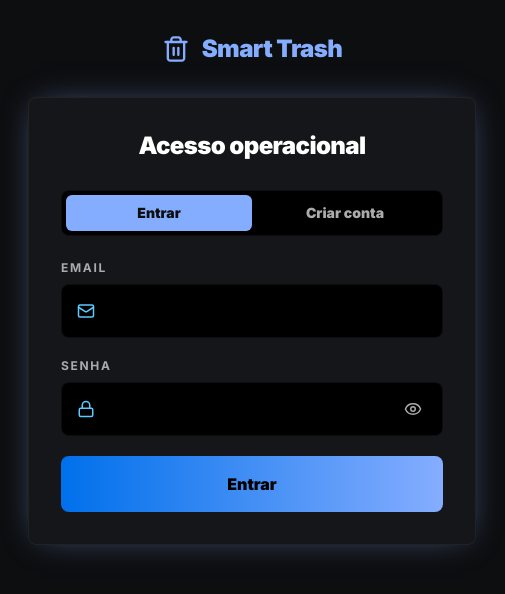
Test: LoginPage › submits credentials to Supabase Auth
Type "operator@smarttrash.local" into the field labelled "Email" at x=252, y=311, box [61,284,443,338]
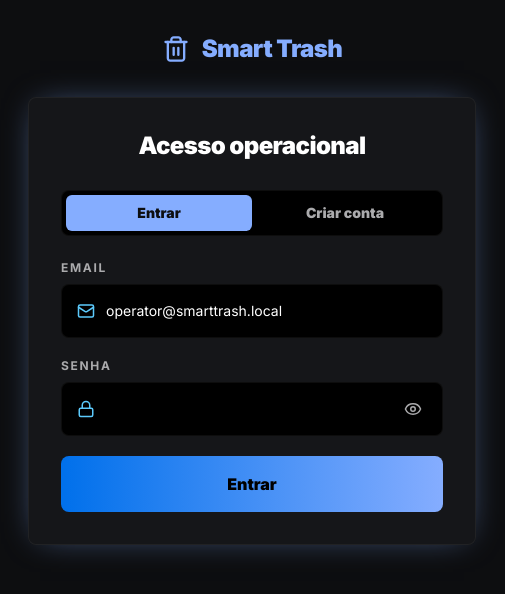
Type "demo123" into the password field labelled "Senha" at x=252, y=409, box [61,382,443,436]
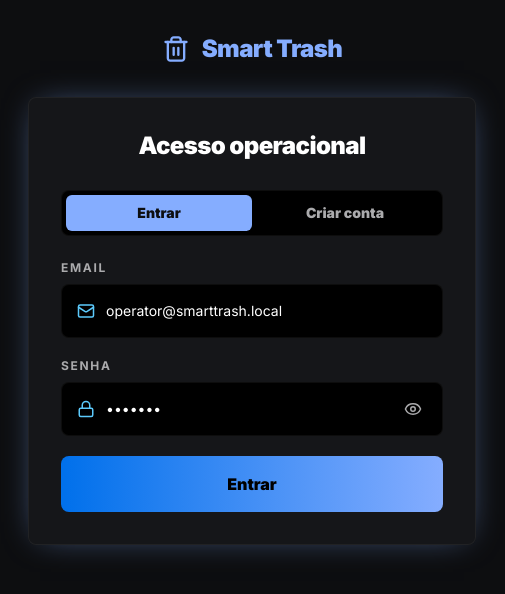
Click the button "Entrar" below "Senha" at x=252, y=484, box [61,456,443,512]
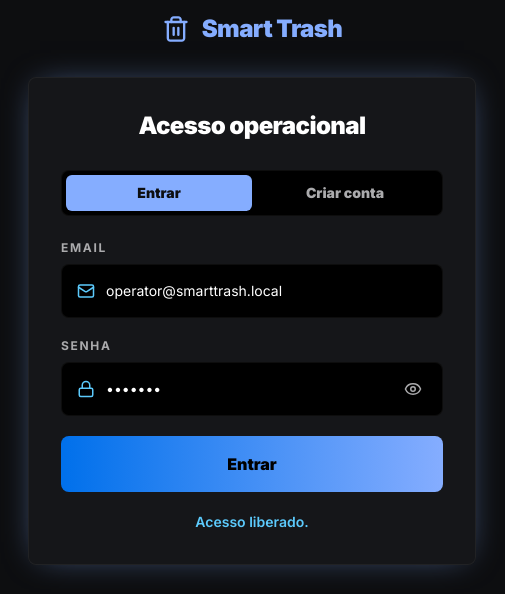
Now the text "Acesso liberado." is shown, box [195,513,309,530]
